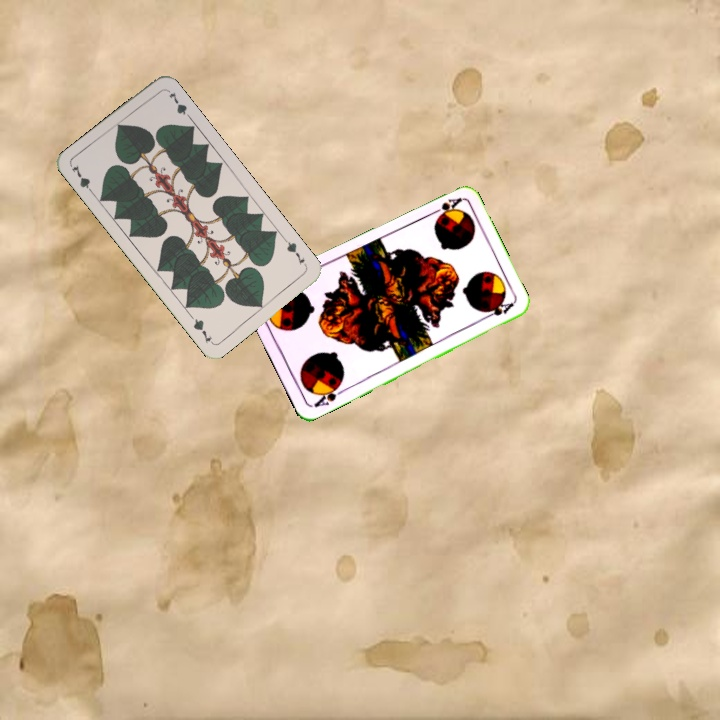G7: (67, 160, 97, 197), (280, 235, 310, 270)
SA: (310, 380, 347, 410), (426, 193, 464, 219)
